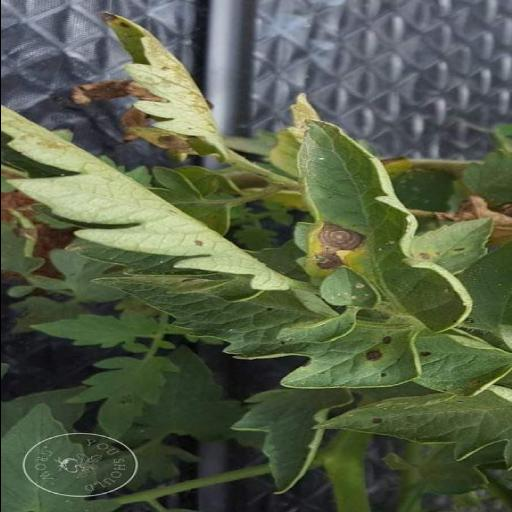disease_tomato: (283, 94, 477, 330)
